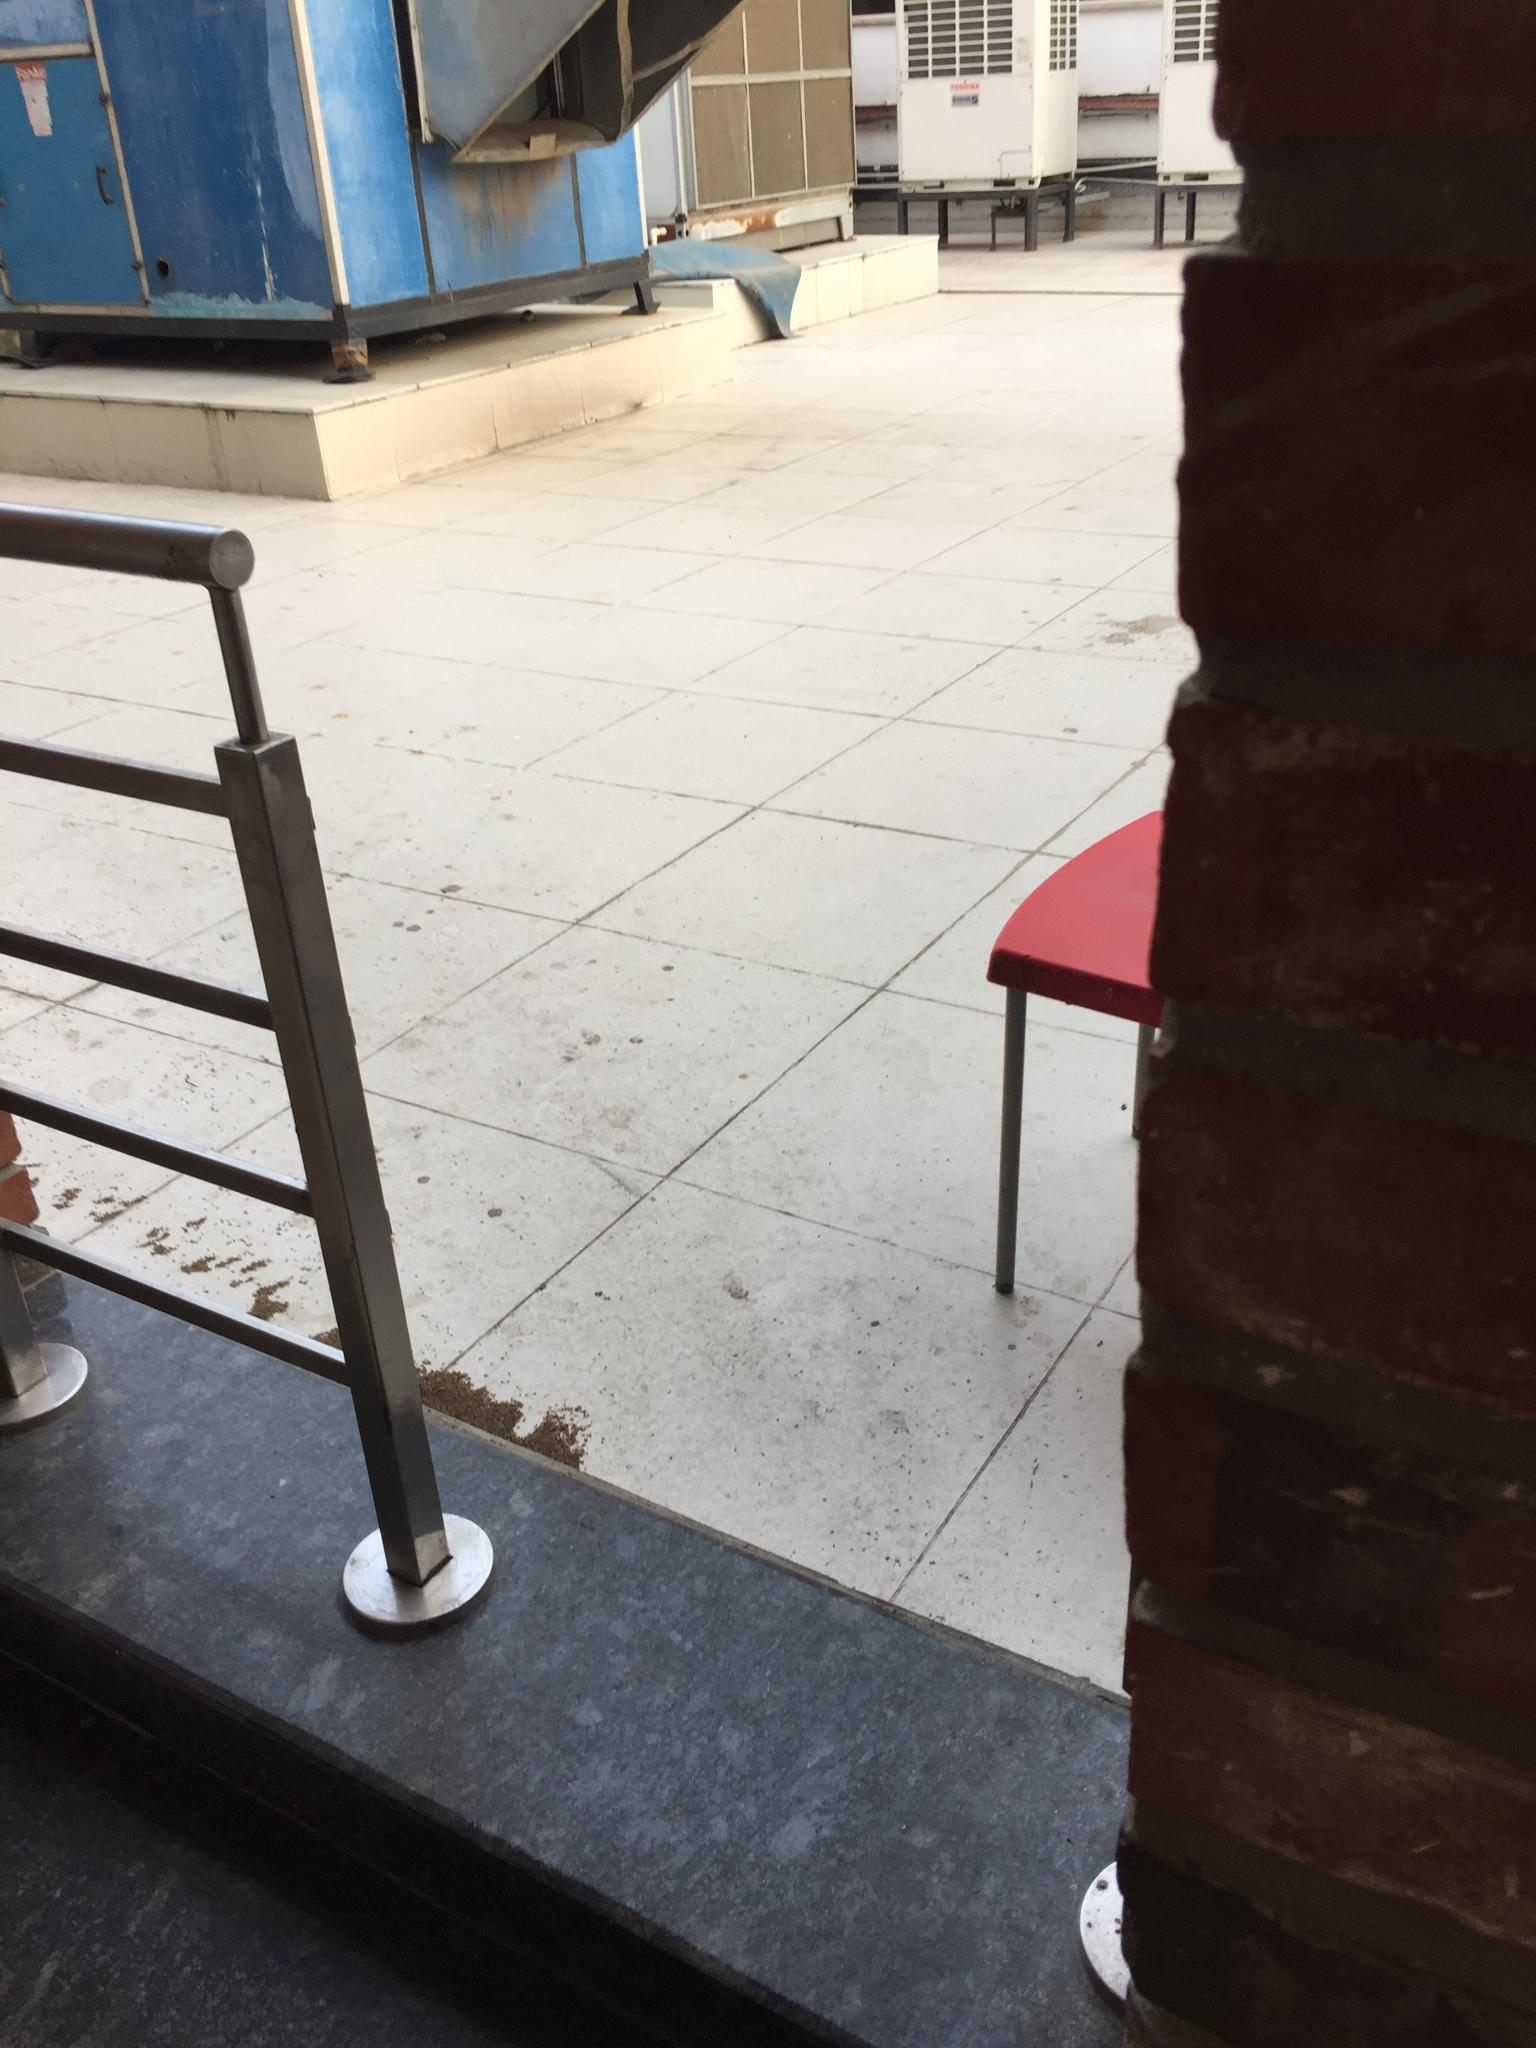chair: (986, 808, 1167, 1293)
